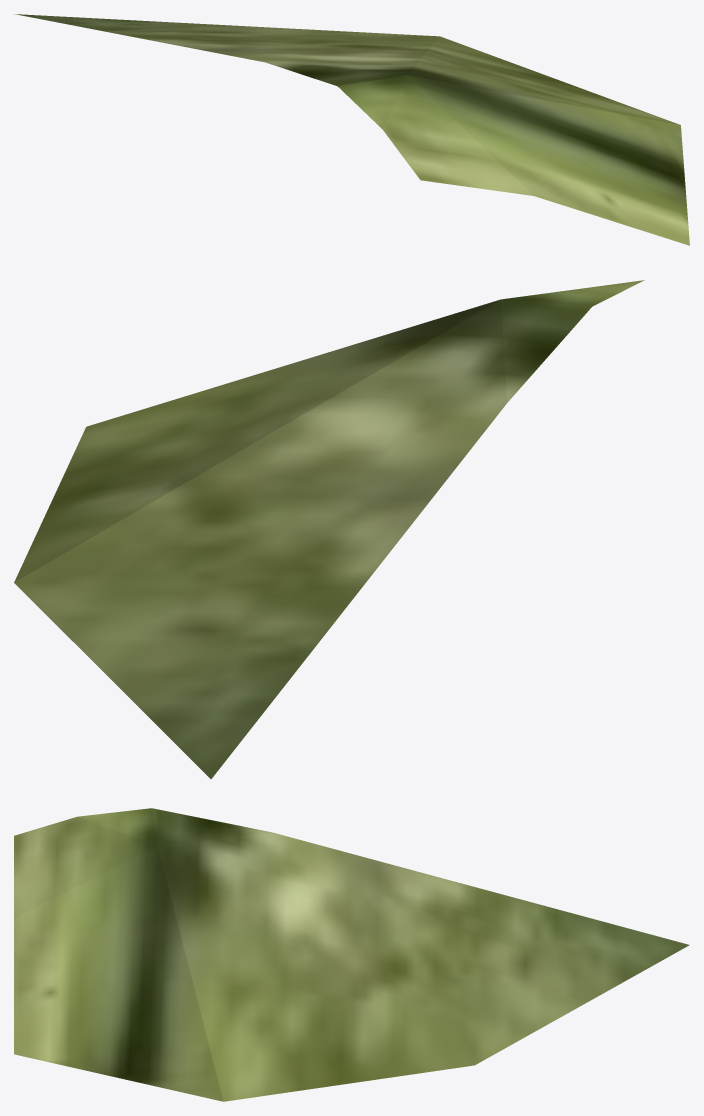
3 renders of one model, top to bottom at view 1: azimuth 30°, elevation 25°; view 2: azimuth 150°, elevation 25°; view 3: azimuth 270°, elevation 25°, orthographic. The views are drawn at different scales.
Bounding box in the file's own units: 0.8102 × 0.3298 × 1.48.
1 material, 1 textured.
